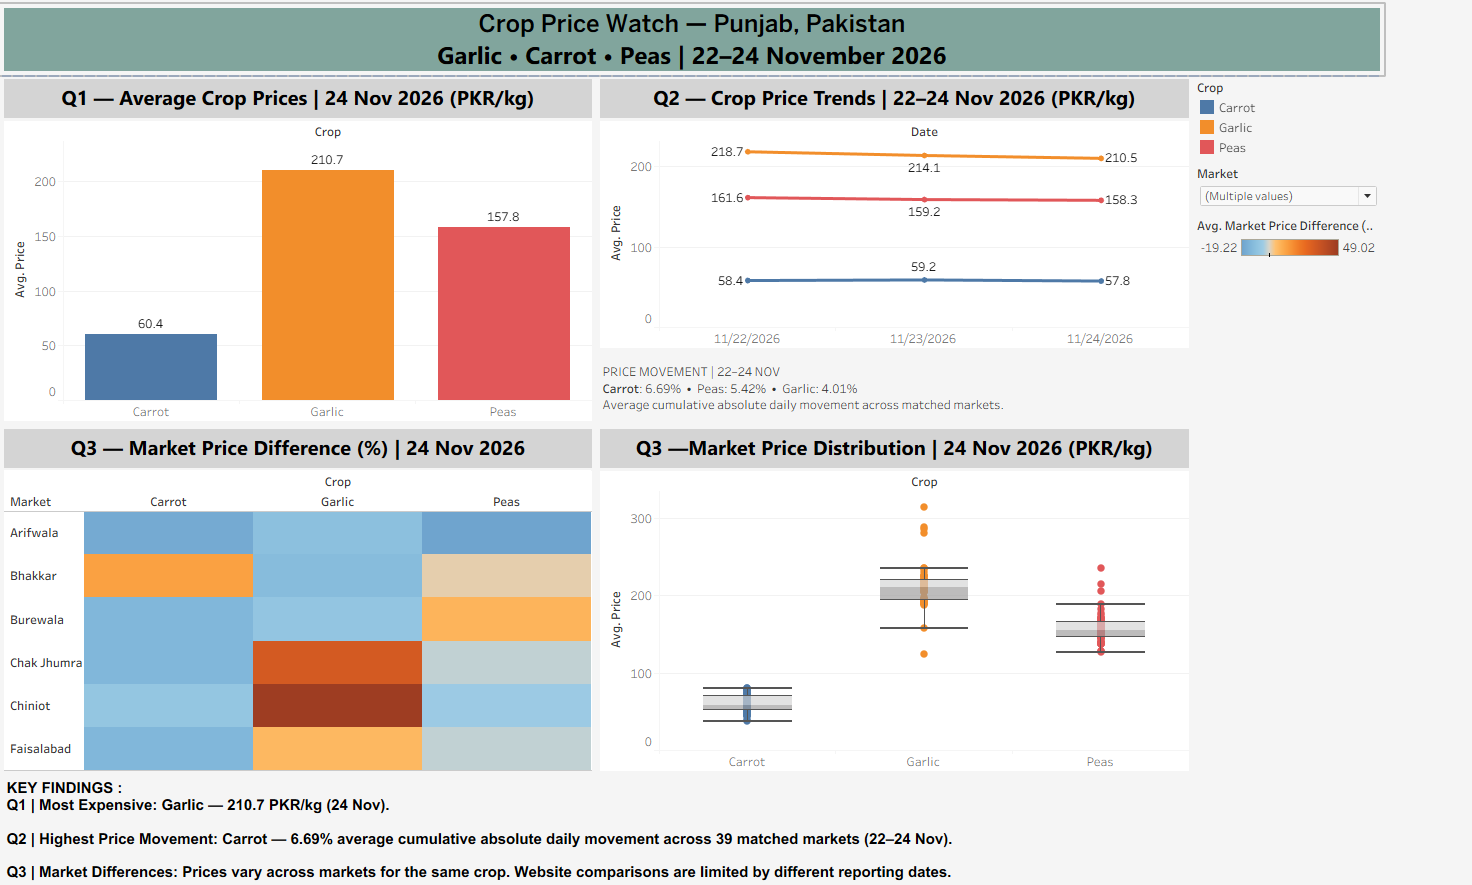

The page's visual inventory and layout, read from the dashboard file:
{"tool":"tableau","page":{"name":"Dashboard 1","canvas":[1400,900],"ordinal":0},"visuals":[{"type":"title","box":[8,8,1384,71]},{"type":"worksheet","title":"Q1 - Crop Prices","mark":"Automatic","rows":["Price"],"cols":["Crop"],"box":[8,79,596.5,349.9]},{"type":"worksheet","title":"Q2 - Price Trends","mark":"Automatic","rows":["price"],"cols":["date"],"box":[604.5,79,596.6,277.4]},{"type":"legend","title":"Q2 - Price Trends","param":"[federated.0o6uqt719xt1q3142dmc51p725qi].[none:crop:nk]","box":[1201,79,191,86]},{"type":"filter","title":"Q3 - Market Comparison","param":"[federated.16ad9ri1s1nfgu15hk3qk11pubb0].[none:Market:nk]","box":[1201,165,191,52]},{"type":"legend","title":"Q3 - Market Comparison","param":"[federated.16ad9ri1s1nfgu15hk3qk11pubb0].[avg:Calculation_1829863671414784:qk]","box":[1201,217,191,65]},{"type":"text","box":[604.5,356.4,596.6,72.6]},{"type":"worksheet","title":"Q3 - Market Comparison","mark":"Square","rows":["Market"],"cols":["Crop"],"box":[8,428.9,596.5,350.1]},{"type":"worksheet","title":"Q3 - Price Distribution","mark":"Circle","rows":["Price"],"cols":["Crop"],"box":[604.5,428.9,596.6,350.1]},{"type":"text","box":[8,779,1384,113]}]}

Visuals, with their boxes on the page's 1400x900 design canvas (x1, y1, x2, y2). These are canvas units, not pixel positions in the 1472x885 screenshot, which may show the page scaled, cropped or inside an application window:
title: bbox=(8, 8, 1392, 79)
"Q1 - Crop Prices" worksheet: bbox=(8, 79, 604, 429)
"Q2 - Price Trends" worksheet: bbox=(604, 79, 1201, 356)
"Q2 - Price Trends" legend: bbox=(1201, 79, 1392, 165)
"Q3 - Market Comparison" filter: bbox=(1201, 165, 1392, 217)
"Q3 - Market Comparison" legend: bbox=(1201, 217, 1392, 282)
text: bbox=(604, 356, 1201, 429)
"Q3 - Market Comparison" worksheet (Square marks): bbox=(8, 429, 604, 779)
"Q3 - Price Distribution" worksheet (Circle marks): bbox=(604, 429, 1201, 779)
text: bbox=(8, 779, 1392, 892)
